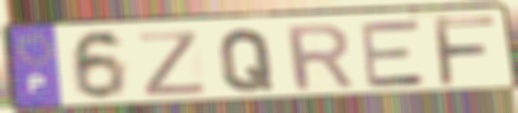6: (67, 28, 133, 105)
E: (357, 18, 430, 90)
F: (429, 14, 500, 89)
Q: (216, 27, 277, 94)
R: (281, 21, 359, 94)
Z: (134, 29, 212, 99)
